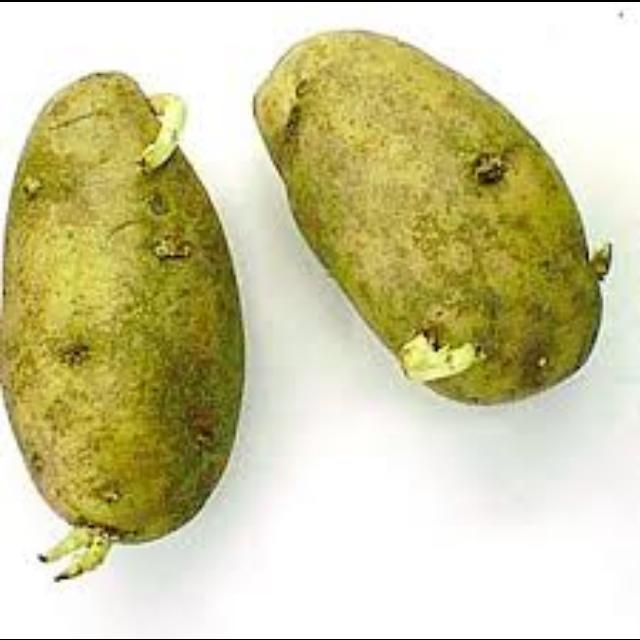Defected potato: (245, 16, 622, 404)
Sprouted potato: (0, 52, 256, 600)
